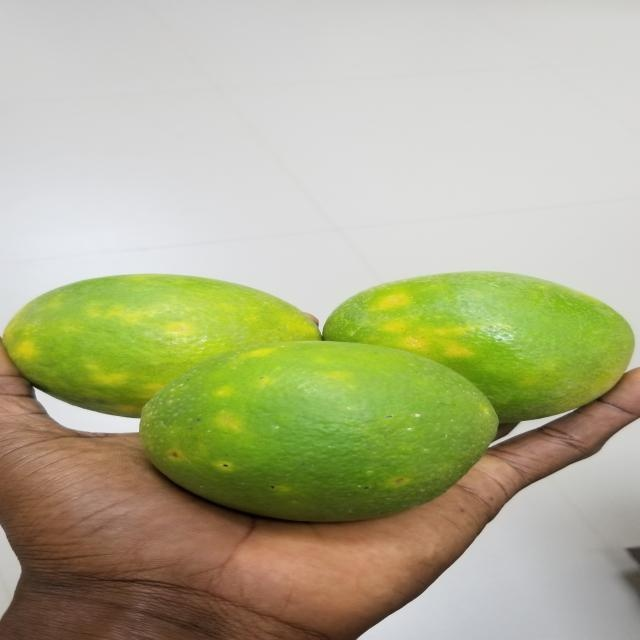agrume: (127, 335, 503, 528), (323, 263, 633, 414), (10, 269, 330, 415)
